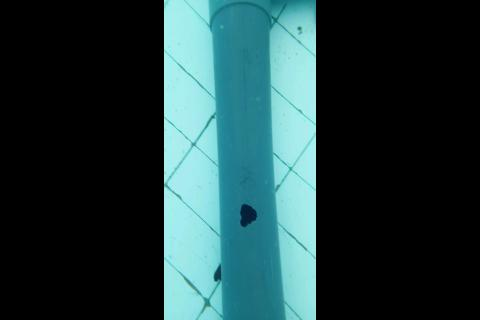kebocoran: (239, 202, 258, 229)
